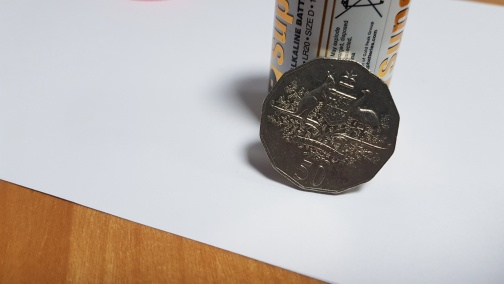coin: (259, 57, 401, 195)
